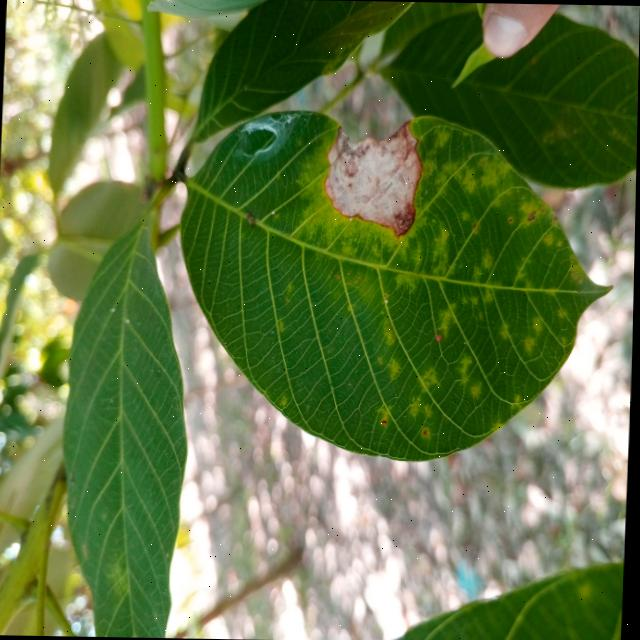Leaf-Blight: (322, 117, 424, 237)
